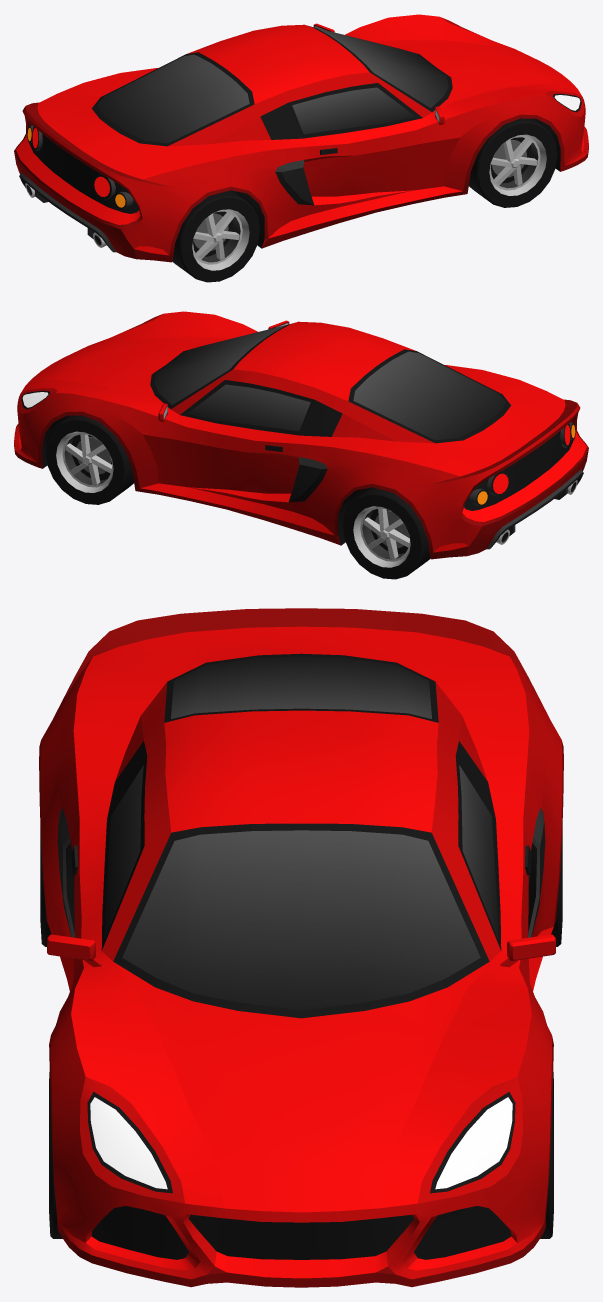
File: Car_260.glb
3 renders of one model, top to bottom at view 1: azimuth 30°, elevation 25°; view 2: azimuth 150°, elevation 25°; view 3: azimuth 270°, elevation 25°, orthographic. The views are drawn at different scales.
Visible parts, largest first — view 1: Car_260, wheel_3_Car_260_Wheel_2R, wheel_1_Car_260_Wheel_1R; view 2: Car_260, wheel_2_Car_260_Wheel_2L, wheel_0_Car_260_Wheel_1L; view 3: Car_260.
Part boxes in pixels (box(x1,y1,x2,y2)): Car_260: box(14, 14, 588, 262); wheel_3_Car_260_Wheel_2R: box(172, 190, 260, 282); wheel_1_Car_260_Wheel_1R: box(469, 118, 557, 207); Car_260: box(14, 311, 588, 559); wheel_2_Car_260_Wheel_2L: box(342, 487, 430, 579); wheel_0_Car_260_Wheel_1L: box(45, 415, 133, 504); Car_260: box(39, 608, 563, 1287).
Bounding box in the file's own units: 4.05 × 1.16 × 1.8.
2 materials, 2 textured.
